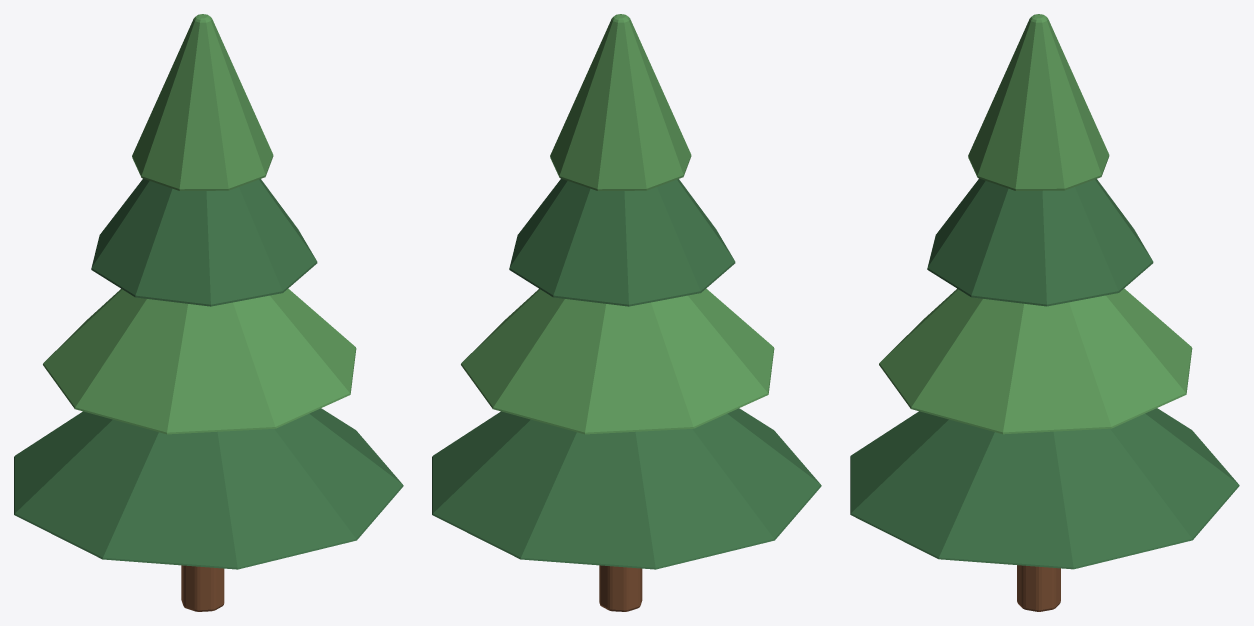
File: tree_pine.glb
3 renders of one model, left to right at view 1: azimuth 30°, elevation 25°; view 2: azimuth 150°, elevation 25°; view 3: azimuth 270°, elevation 25°, orthographic.
Parts seen in each view (by area): view 1: tree_pine; view 2: tree_pine; view 3: tree_pine.
Boxes of the visible parts, x1,y1,x2,y2 form: tree_pine: (14, 14, 403, 611); tree_pine: (432, 14, 821, 611); tree_pine: (850, 14, 1239, 611).
Bounding box in the file's own units: 2.44 × 4 × 2.4.
